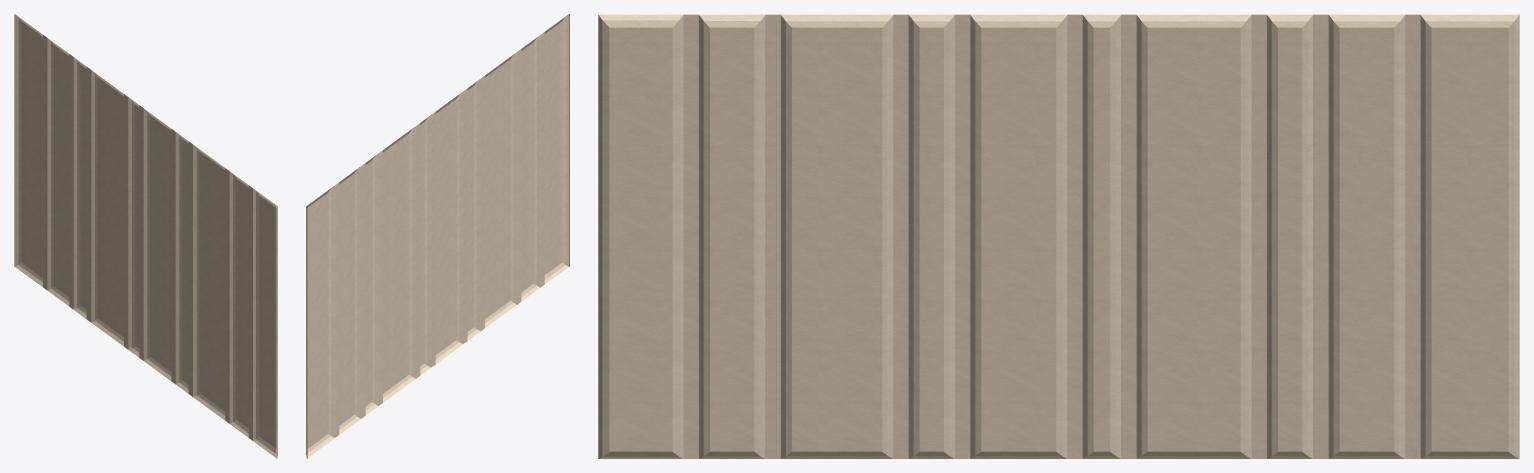
3 views of the same model, side by side, from view 1: azimuth 30°, elevation 25°; view 2: azimuth 150°, elevation 25°; view 3: azimuth 270°, elevation 25° (orthographic). The views are drawn at different scales.
Visible parts, largest first — view 1: ZW_01; view 2: ZW_01; view 3: ZW_01.
Boxes of the visible parts, x1=… form: ZW_01: x1=14, y1=14, x2=277, y2=458; ZW_01: x1=306, y1=14, x2=569, y2=458; ZW_01: x1=598, y1=14, x2=1519, y2=458.
Bounding box in the file's own units: 4.72 × 263 × 494.
